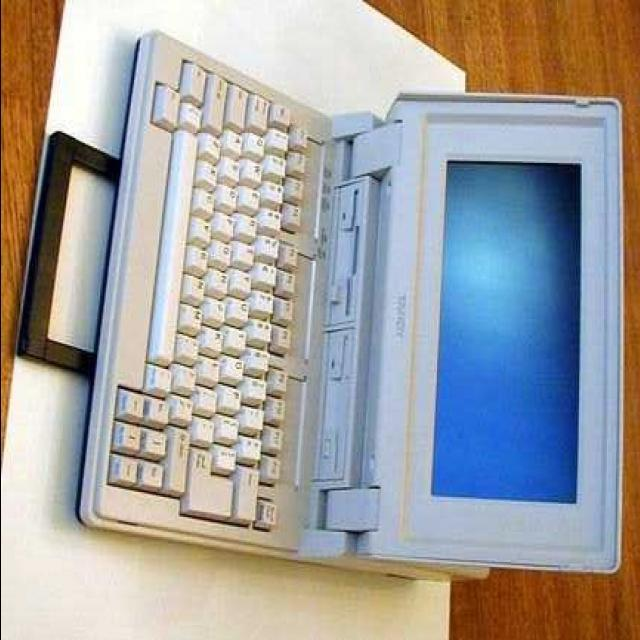-keyboard-: (86, 36, 622, 558)
